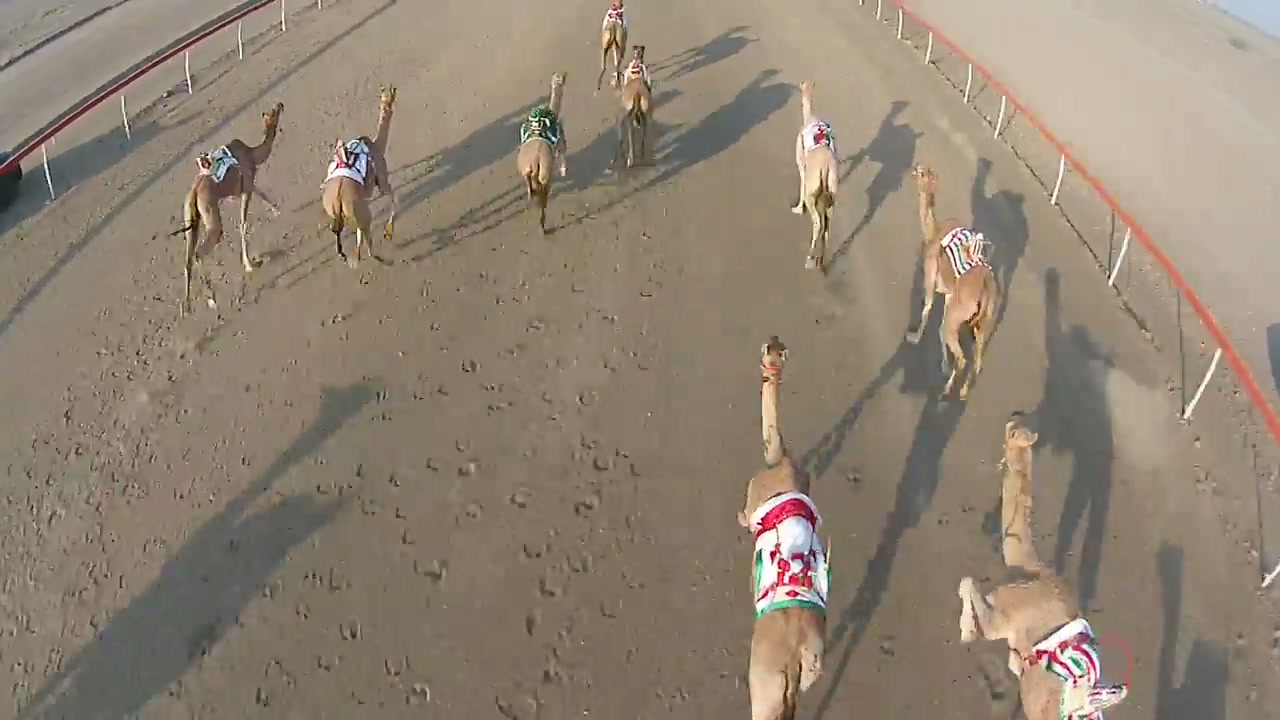animal_footprint: (231, 209, 719, 719), (60, 264, 395, 700), (0, 284, 271, 626)
